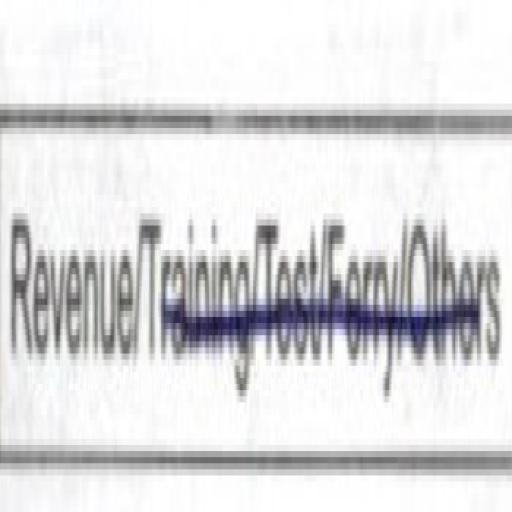check: (0, 24, 136, 512)
